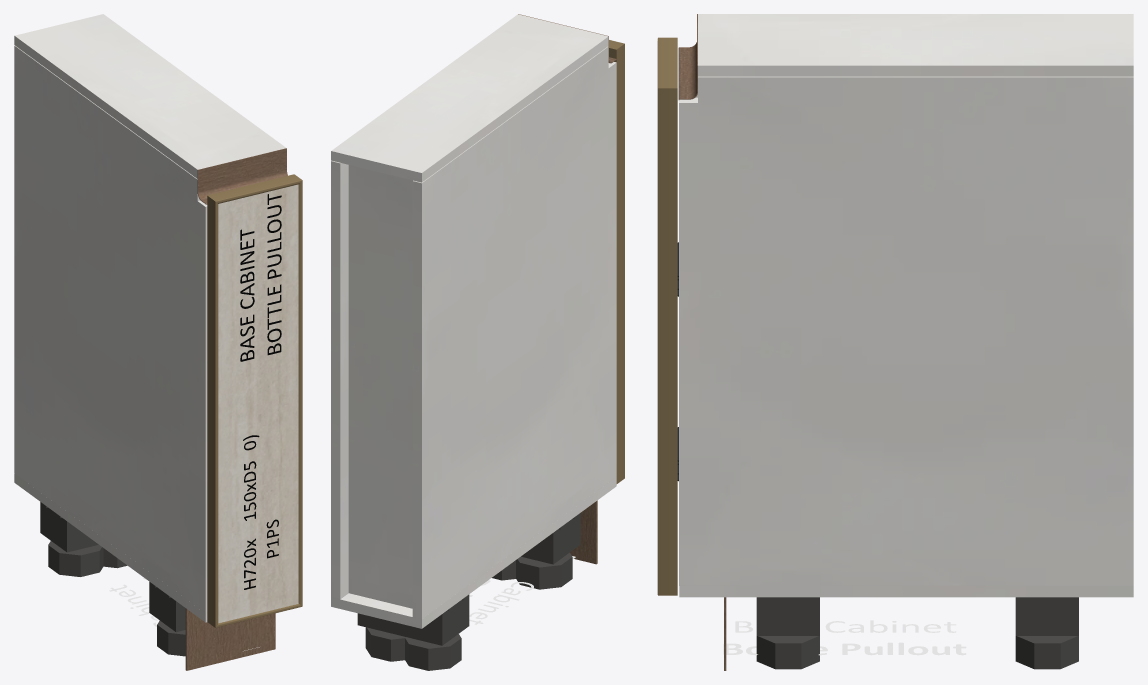
Rendered from BC-AC-CJ-ST-BPO-LHS-XXX-150-720-560-15.glb.
3 renders of one model, left to right at view 1: azimuth 30°, elevation 25°; view 2: azimuth 150°, elevation 25°; view 3: azimuth 270°, elevation 25°, orthographic. The views are drawn at different scales.
Parts seen in each view (by area): view 1: TP_node, Object_node_27, TP_node_1, Extrusion_node_1, Object_node_29, ExtrSplGeo, Extrusion_node, TP, 2D text_node, Foot, Plate, Plate_node_0 (+3 smaller); view 2: TP_node, TP_node_2, TP_node_1, TP_node_0, Extrusion_node_1, TP, Plate, Foot, Foot_node_0, Plate_node_0, Object_node_29, Foot_node (+1 smaller); view 3: TP_node_0, TP_node_1, Extrusion_node, TP, Plate_node, Plate_node_1, Foot_node, Foot_node_1, 2D text_node_0, ExtrSplGeo, Extrusion.
Part boxes in pixels (x1=…): TP_node: x1=14, y1=45, x2=207, y2=613; Object_node_27: x1=218, y1=184, x2=298, y2=623; TP_node_1: x1=14, y1=14, x2=286, y2=178; Extrusion_node_1: x1=207, y1=196, x2=218, y2=627; Object_node_29: x1=185, y1=608, x2=275, y2=670; ExtrSplGeo: x1=197, y1=148, x2=287, y2=204; Extrusion_node: x1=298, y1=180, x2=302, y2=606; TP: x1=14, y1=473, x2=207, y2=622; 2D text_node: x1=240, y1=194, x2=281, y2=361; Foot: x1=48, y1=541, x2=103, y2=576; Plate: x1=40, y1=502, x2=98, y2=552; Plate_node_0: x1=149, y1=582, x2=185, y2=632; TP_node: x1=412, y1=46, x2=616, y2=619; TP_node_2: x1=348, y1=165, x2=412, y2=608; TP_node_1: x1=331, y1=14, x2=608, y2=182; TP_node_0: x1=331, y1=161, x2=348, y2=599; Extrusion_node_1: x1=609, y1=44, x2=624, y2=483; TP: x1=331, y1=477, x2=616, y2=628; Plate: x1=383, y1=594, x2=469, y2=645; Foot: x1=405, y1=634, x2=461, y2=670; Foot_node_0: x1=516, y1=552, x2=572, y2=589; Plate_node_0: x1=521, y1=513, x2=580, y2=564; Object_node_29: x1=570, y1=500, x2=597, y2=564; Foot_node: x1=365, y1=627, x2=407, y2=661; TP_node_0: x1=679, y1=76, x2=1133, y2=585; TP_node_1: x1=698, y1=14, x2=1133, y2=76; Extrusion_node: x1=657, y1=88, x2=677, y2=595; TP: x1=679, y1=586, x2=1133, y2=597; Plate_node: x1=1015, y1=597, x2=1078, y2=635; Plate_node_1: x1=756, y1=597, x2=819, y2=635; Foot_node: x1=1015, y1=636, x2=1078, y2=669; Foot_node_1: x1=756, y1=636, x2=819, y2=669; 2D text_node_0: x1=723, y1=620, x2=966, y2=655; ExtrSplGeo: x1=678, y1=14, x2=697, y2=99; Extrusion: x1=658, y1=37, x2=677, y2=88.
Size of what is drawn, in the model's own units: 0.15 by 0.82 by 0.5898.
9 materials, 3 textured.
